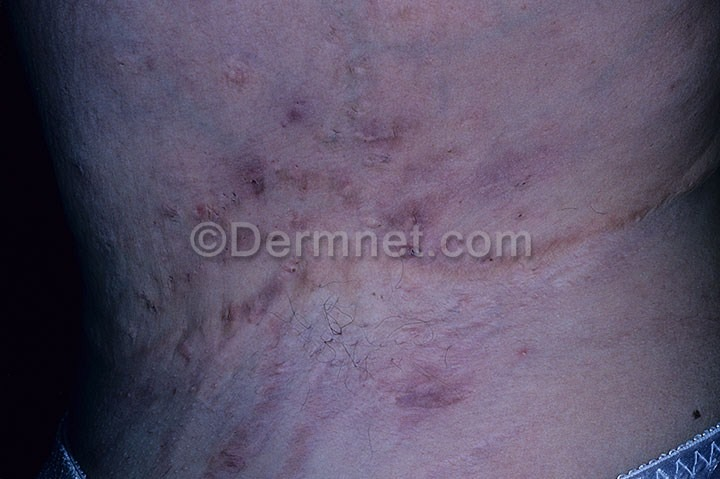Acne: (80, 42, 589, 436)
